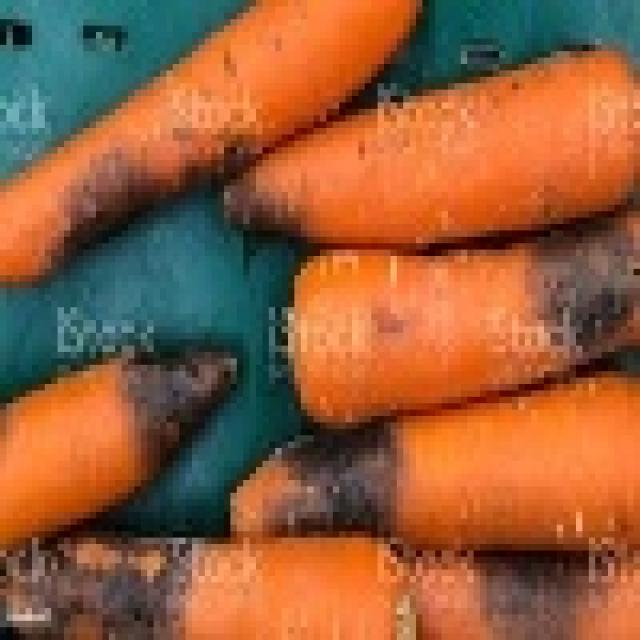Stale_Carrot: (30, 332, 269, 451), (73, 121, 294, 245), (499, 185, 640, 378), (233, 408, 424, 547), (0, 531, 218, 640), (426, 543, 640, 639)
